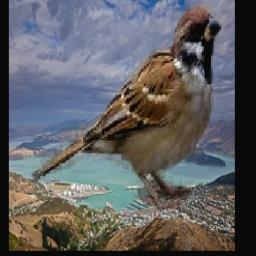Sparrow: (31, 0, 229, 214)
